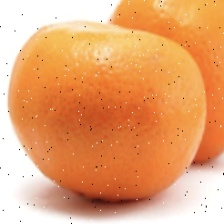orange: (0, 14, 200, 190)
